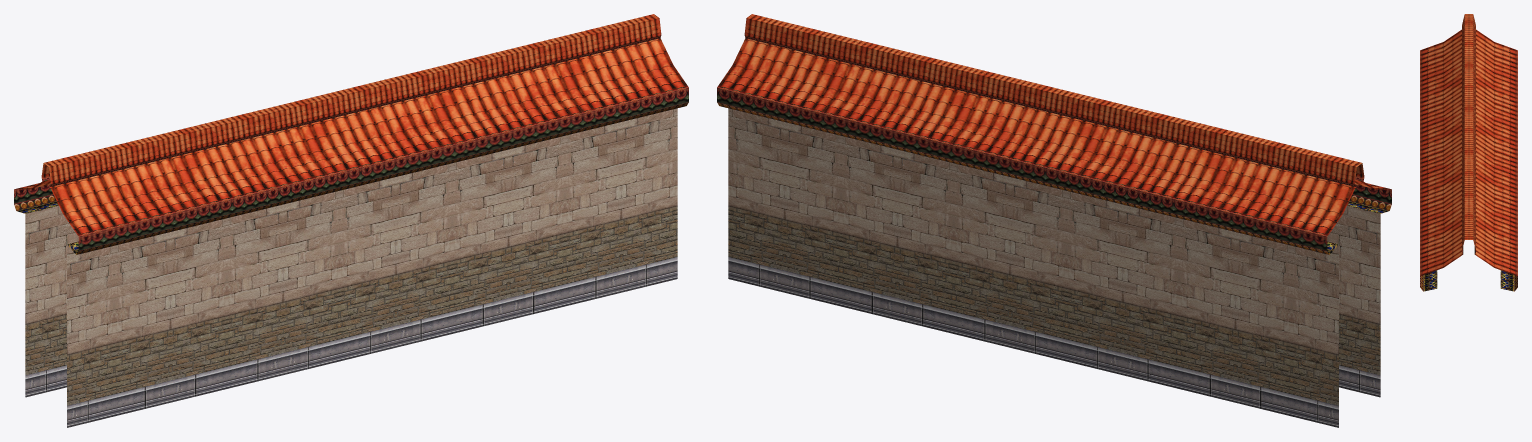
The model's file is SwordSpirit_Square_wall01.FBX.
3 views of the same model, side by side, from view 1: azimuth 30°, elevation 25°; view 2: azimuth 150°, elevation 25°; view 3: azimuth 270°, elevation 25° (orthographic). The views are drawn at different scales.
Visible parts, largest first — view 1: Object232; view 2: Object232; view 3: Object232.
Boxes of the visible parts, x1=… form: Object232: x1=14, y1=14, x2=688, y2=427; Object232: x1=717, y1=14, x2=1391, y2=427; Object232: x1=1420, y1=14, x2=1517, y2=291.
Size of the model in its own units: 1653 by 641 by 303.
3 materials, 3 textured.
